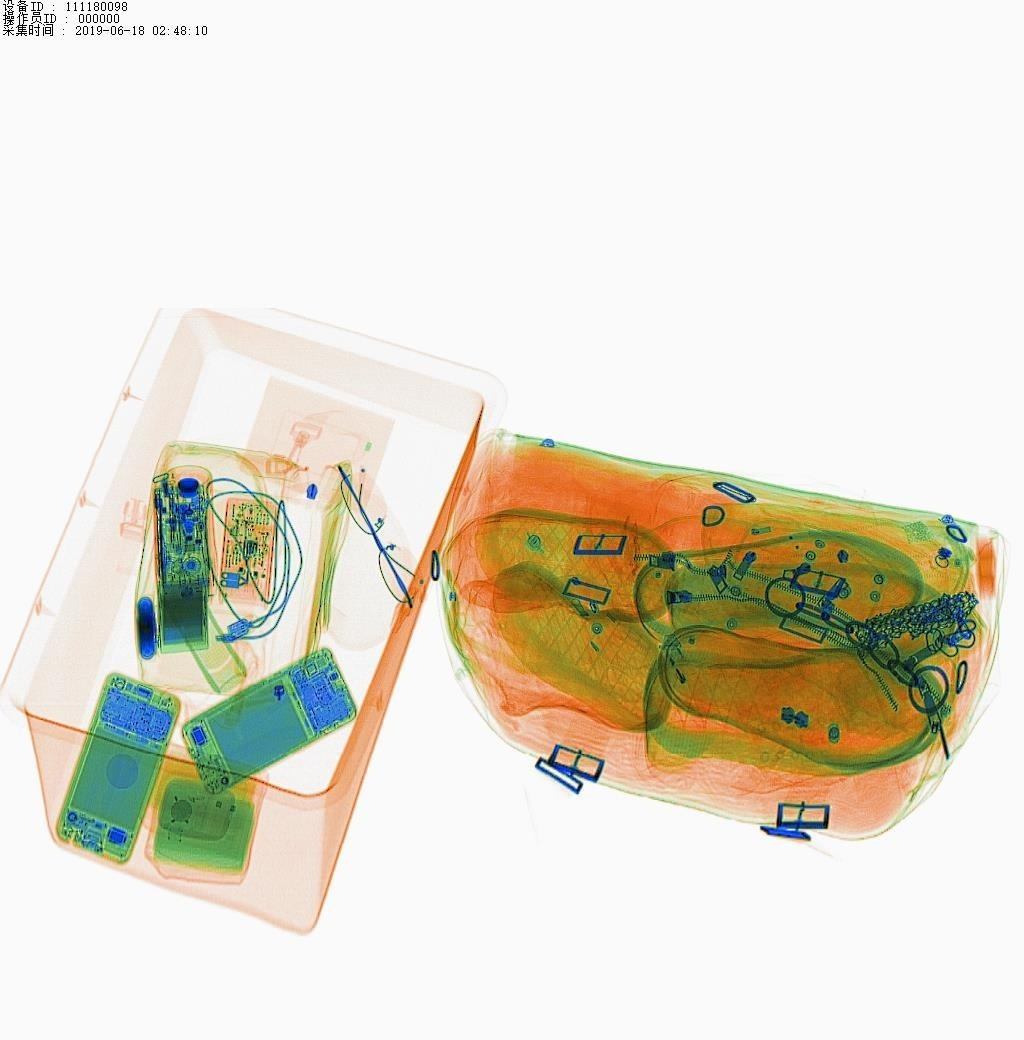NonmetallicFire: (650, 609, 724, 706)
